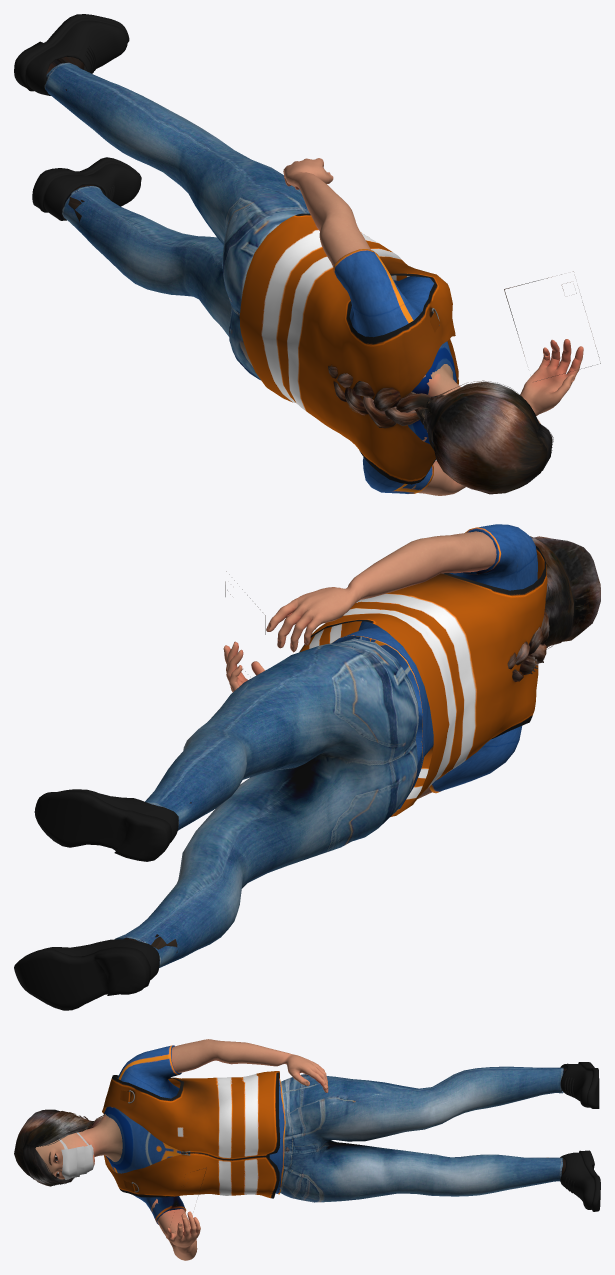
The model's file is worker_shelf_check.obj.
The picture shows the model from 3 angles, top to bottom: view 1: azimuth 30°, elevation 25°; view 2: azimuth 150°, elevation 25°; view 3: azimuth 270°, elevation 25°; orthographic projection. The views are drawn at different scales.
Parts seen in each view (by area): view 1: worker_shelf_check; view 2: worker_shelf_check; view 3: worker_shelf_check.
Part boxes in pixels (box(x1,y1,x2,y2)): worker_shelf_check: box(14, 14, 600, 495); worker_shelf_check: box(14, 524, 600, 1010); worker_shelf_check: box(14, 1039, 600, 1260).
Bounding box in the file's own units: 0.6066 × 0.6114 × 1.71.
Materials: 7 (7 with a texture image).
